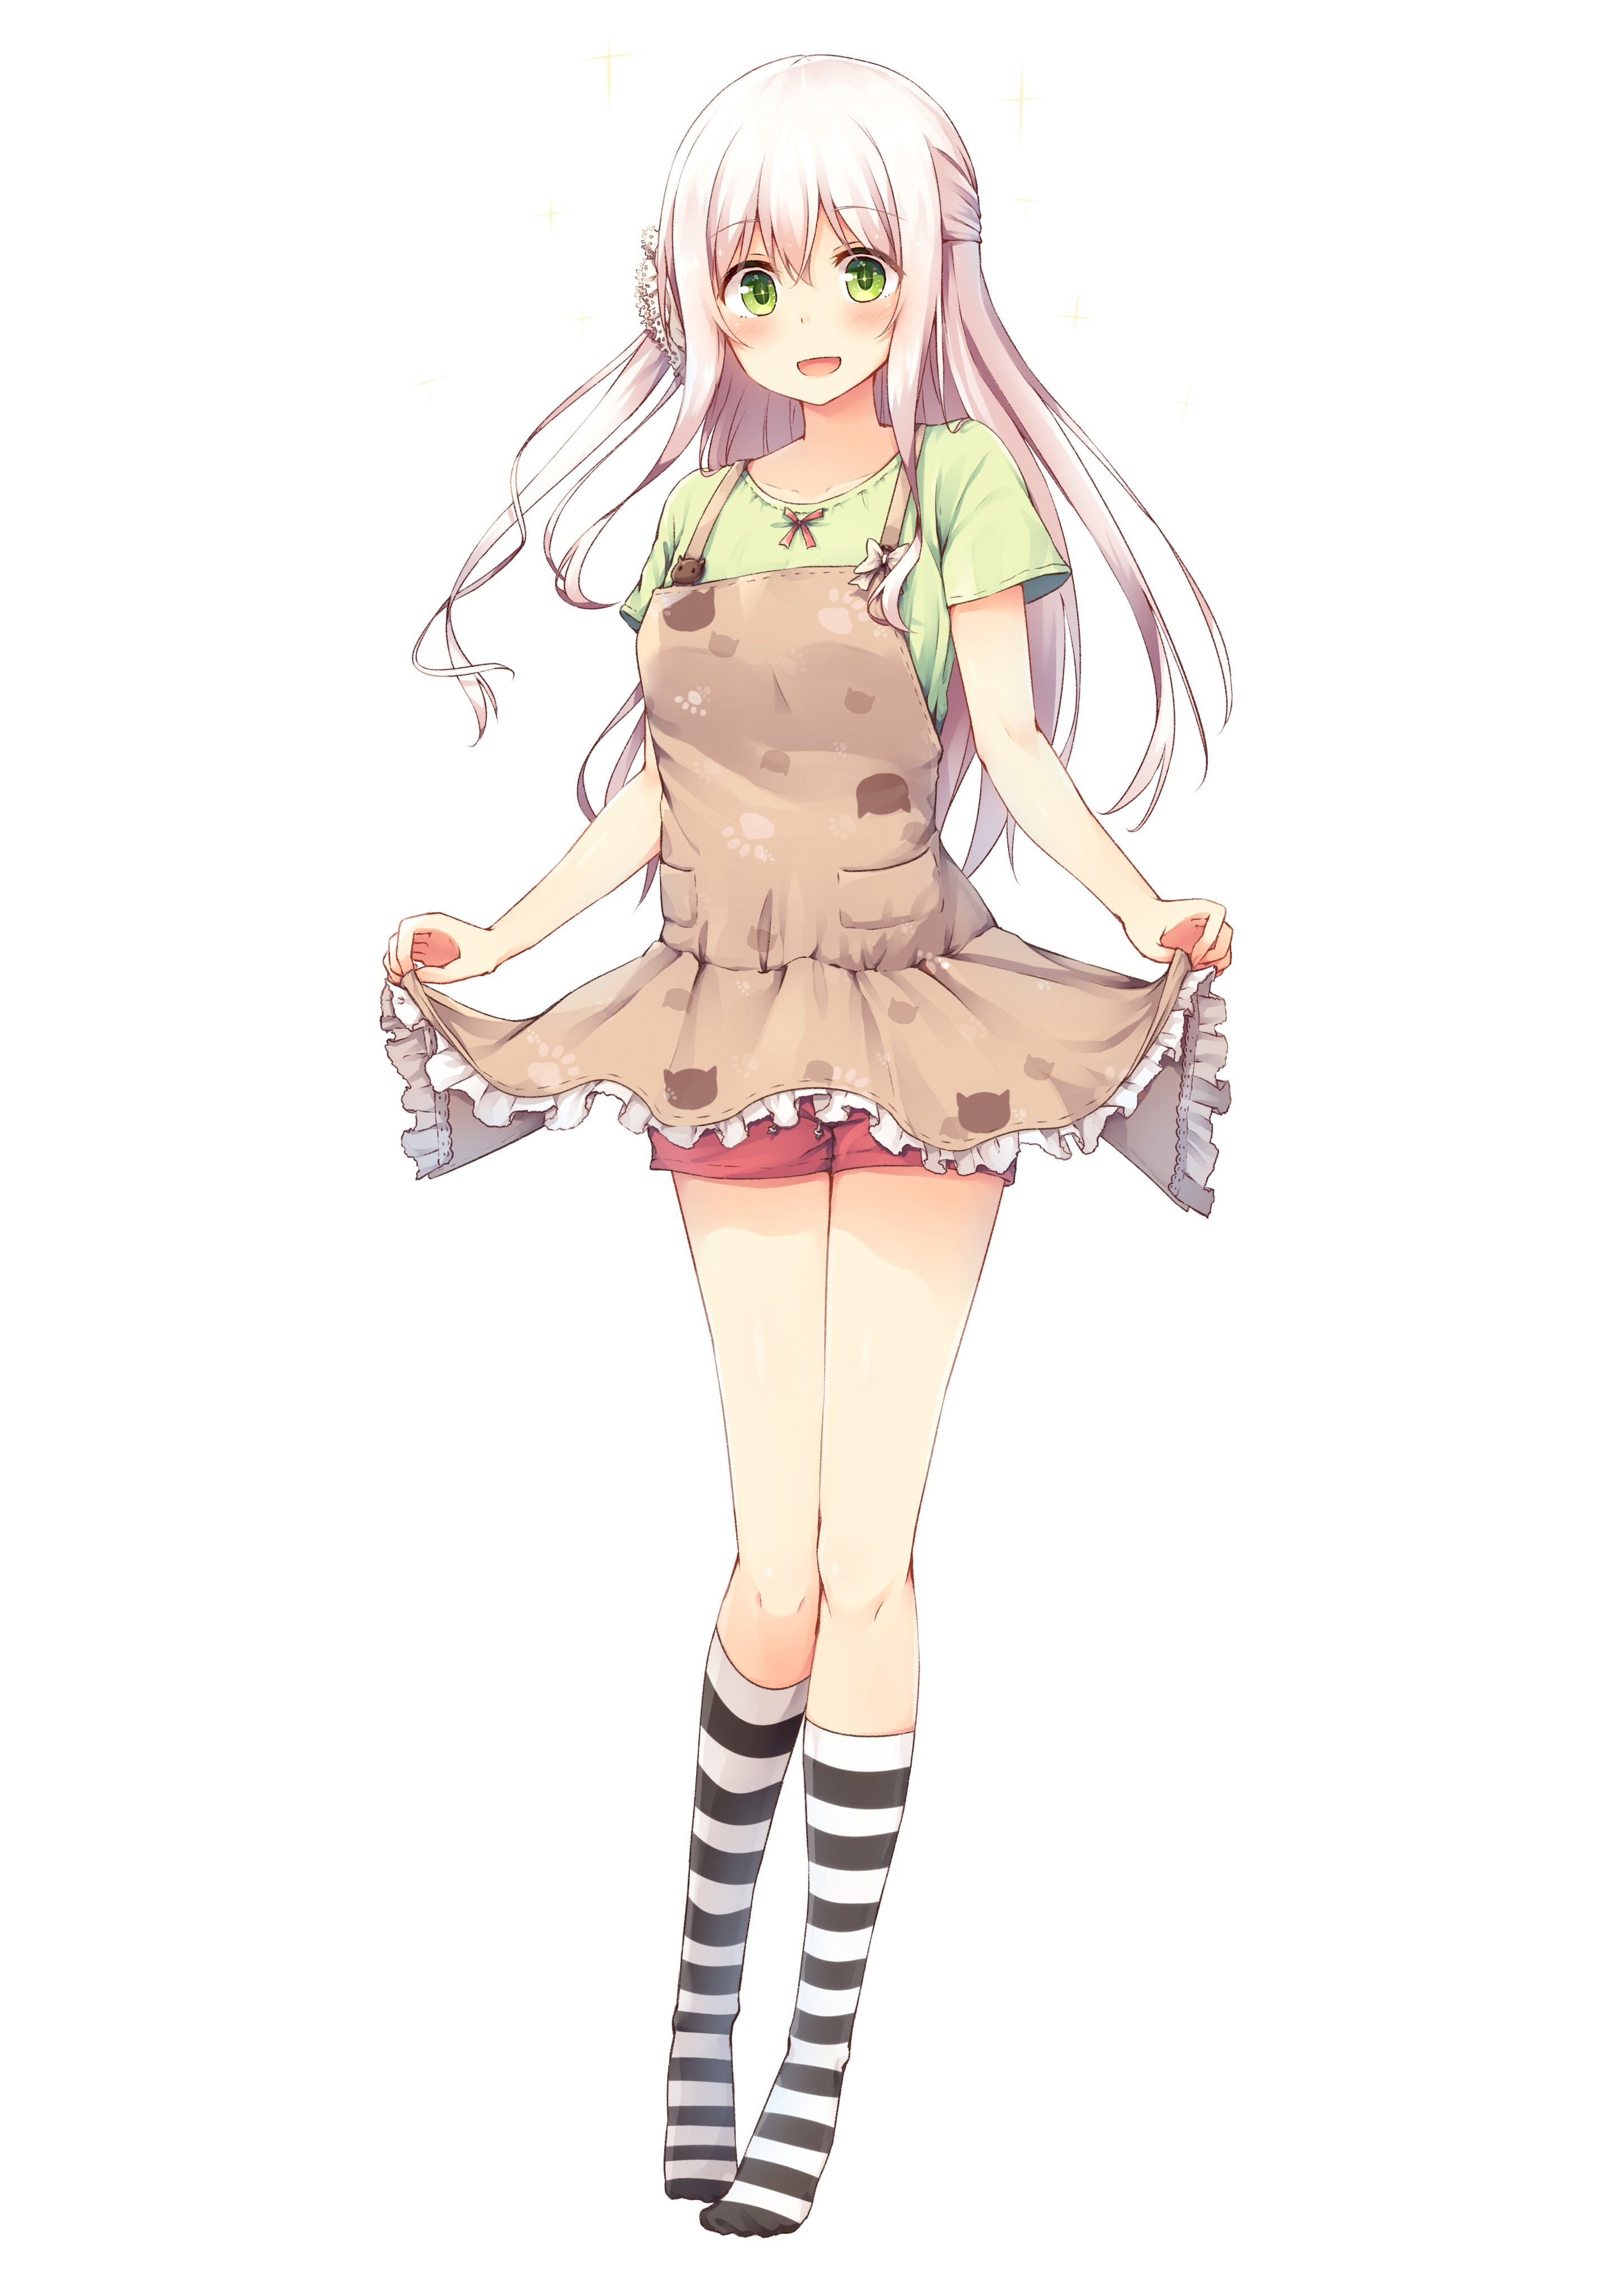纸片人正脸: (631, 42, 993, 426)
